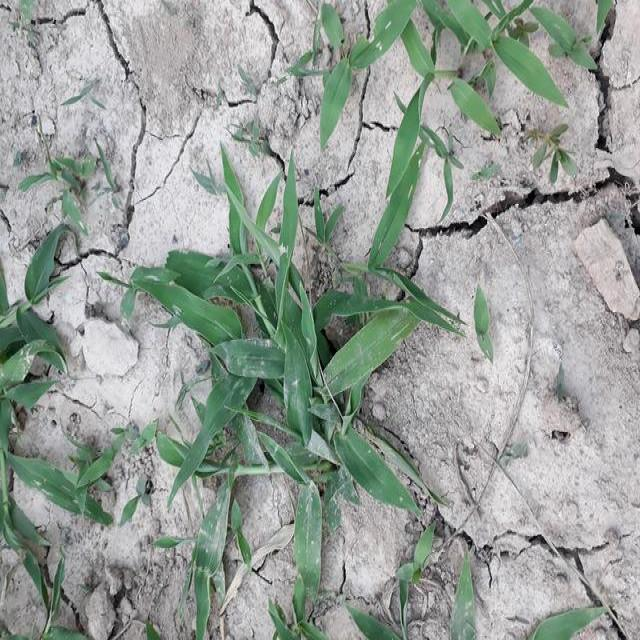weed: (155, 161, 424, 558), (193, 149, 334, 555), (0, 226, 84, 534), (394, 9, 594, 115), (301, 9, 392, 114), (24, 149, 99, 219)
